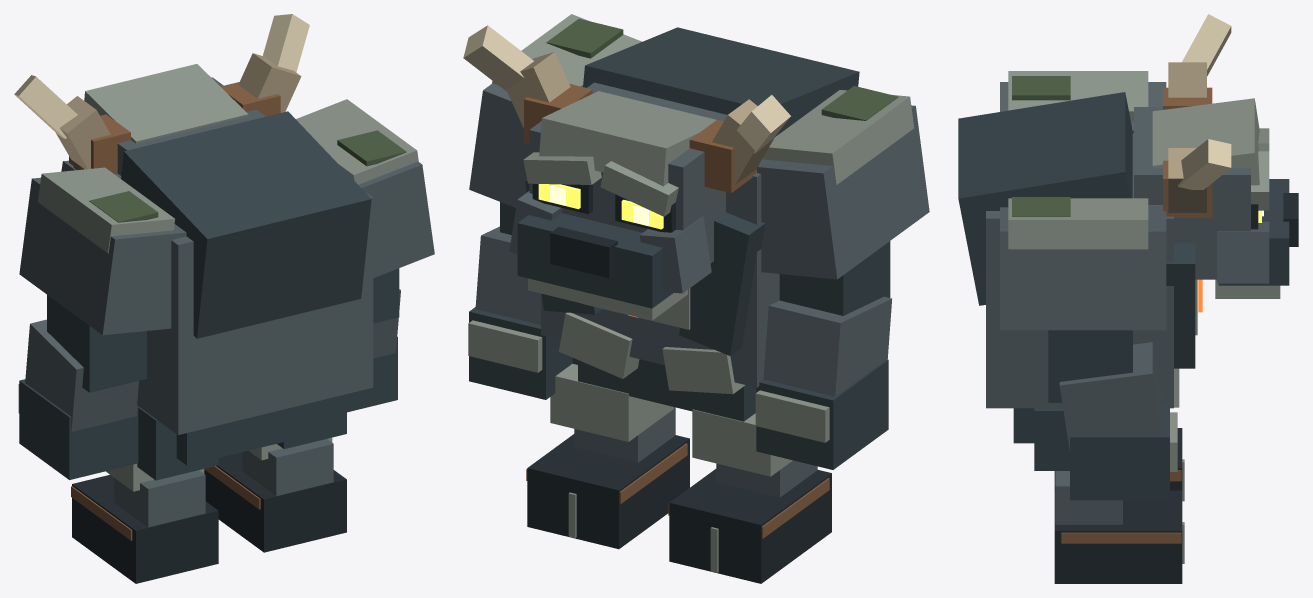
The model's file is boss_gorgon.gltf.
The picture shows the model from 3 angles, left to right: view 1: azimuth 30°, elevation 25°; view 2: azimuth 150°, elevation 25°; view 3: azimuth 270°, elevation 25°; orthographic projection. The views are drawn at different scales.
Parts seen in each view (by area): view 1: body, arm_left, head, leg_left, arm_right, leg_right; view 2: head, arm_left, body, leg_right, arm_right, leg_left; view 3: arm_right, body, head, leg_right, arm_left, leg_left.
Boxes of the visible parts, x1,y1,x2,y2 form: body: (114,111,373,465); arm_left: (18,167,186,479); head: (14,14,309,175); leg_left: (71,407,218,583); arm_right: (296,99,434,412); leg_right: (204,394,346,552); head: (463,25,790,320); arm_left: (755,86,929,469); body: (525,27,859,421); leg_right: (526,358,689,549); arm_right: (468,14,641,399); leg_left: (668,409,831,583); arm_right: (1000,197,1177,500); body: (958,92,1202,443); head: (1134,14,1298,298); leg_right: (1034,408,1184,583); arm_left: (1000,71,1166,133); leg_left: (1054,428,1184,501).
Size of the model in its own units: 2.49 by 3.27 by 2.21.
